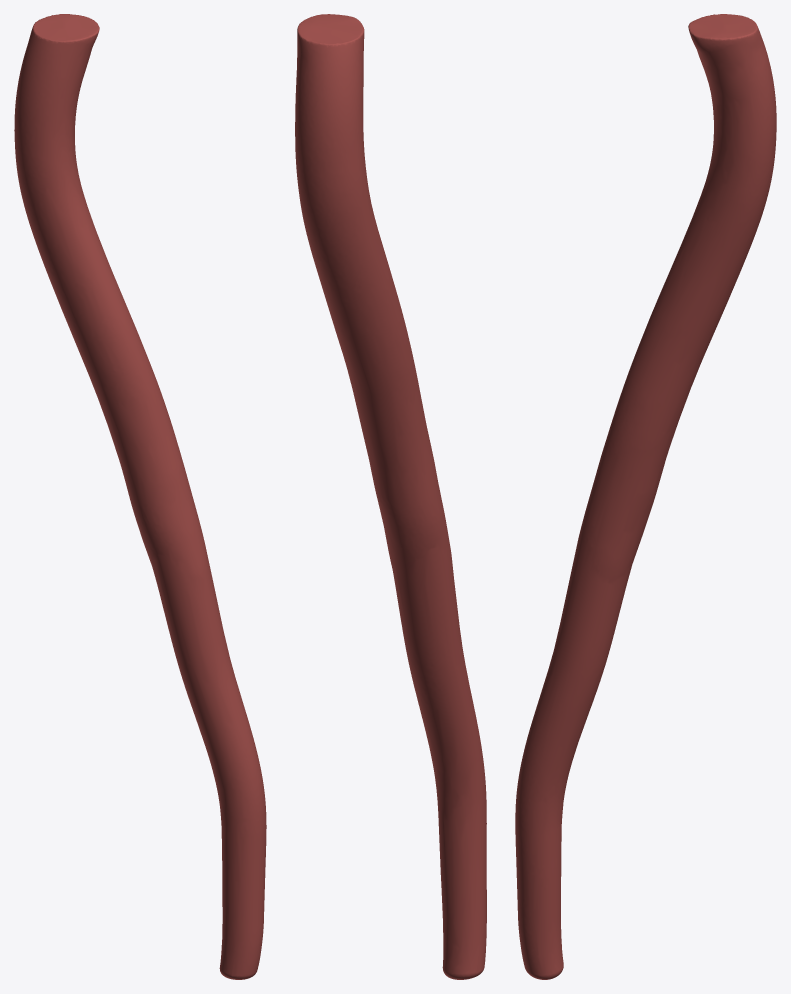
The model's file is FMA3784.glb.
3 renders of one model, left to right at view 1: azimuth 90°, elevation 25°; view 2: azimuth 150°, elevation 25°; view 3: azimuth 270°, elevation 25°, orthographic. The views are drawn at different scales.
Visible parts, largest first — view 1: FMA3784; view 2: FMA3784; view 3: FMA3784.
Part boxes in pixels (x1,y1,x2,y2): FMA3784: (14,14,266,979); FMA3784: (295,14,486,979); FMA3784: (515,14,776,979).
Size of the model in its own units: 0.0309 by 0.3433 by 0.084.
